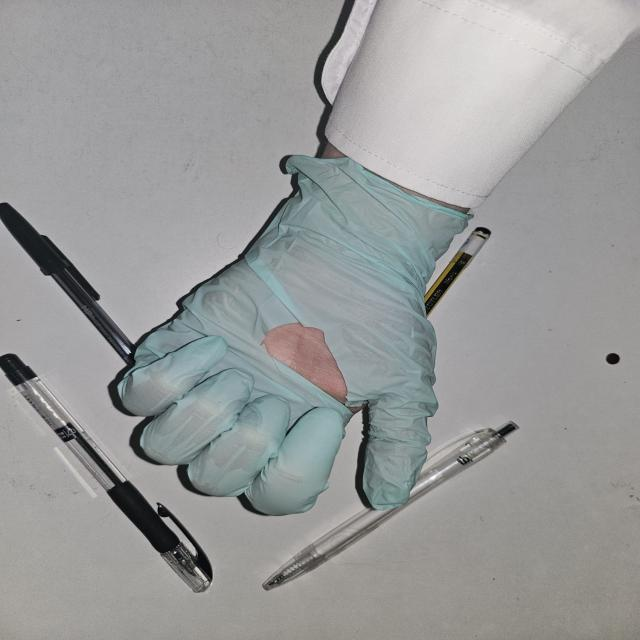gloves_damaged: (114, 148, 474, 514)
